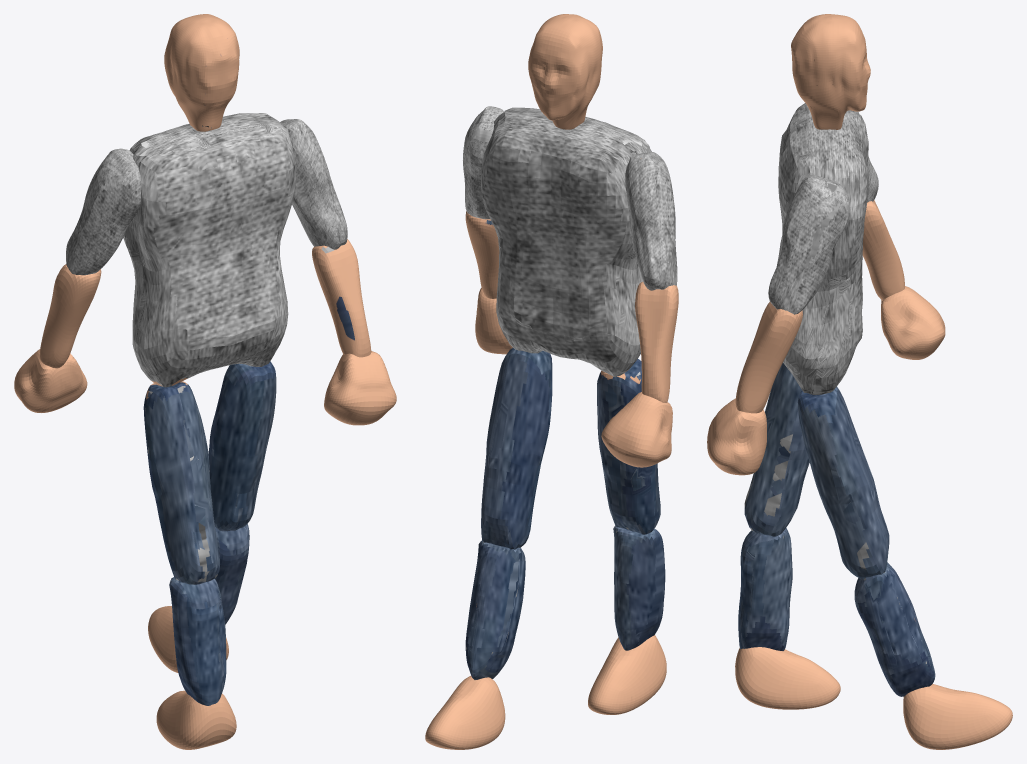
Rendered from mainCharacter.obj.
3 renders of one model, left to right at view 1: azimuth 30°, elevation 25°; view 2: azimuth 150°, elevation 25°; view 3: azimuth 270°, elevation 25°, orthographic.
Visible parts, largest first — view 1: Cube.007, Cube.001, Cube.001_Cube.017, Cube.016, Cube.006_Cube.021, Cube.002_Cube.018, Cube.010, Cube.015, Cube.009_Cube.023, Cube.005_Cube.020, Cube.008_Cube.022, Cube.011_Cube.024 (+2 smaller); view 2: Cube.007, Cube.001_Cube.017, Cube.016, Cube.004, Cube.006_Cube.021, Cube.001, Cube.002_Cube.018, Cube.005_Cube.020, Cube.003_Cube.019, Cube.011_Cube.024, Cube.008_Cube.022, Cube.010 (+2 smaller); view 3: Cube.007, Cube.001_Cube.017, Cube.016, Cube.010, Cube.001, Cube.004, Cube.002_Cube.018, Cube.003_Cube.019, Cube.005_Cube.020, Cube.015, Cube.011_Cube.024, Cube.009_Cube.023 (+1 smaller).
Part boxes in pixels (<box>): Cube.007: <box>123,113,295,387</box>; Cube.001: <box>143,381,219,584</box>; Cube.001_Cube.017: <box>208,361,276,531</box>; Cube.016: <box>164,14,239,131</box>; Cube.006_Cube.021: <box>66,148,140,275</box>; Cube.002_Cube.018: <box>169,577,226,705</box>; Cube.010: <box>280,119,347,249</box>; Cube.015: <box>312,239,371,357</box>; Cube.009_Cube.023: <box>324,351,396,425</box>; Cube.005_Cube.020: <box>156,690,236,749</box>; Cube.008_Cube.022: <box>39,264,101,368</box>; Cube.011_Cube.024: <box>14,349,87,412</box>; Cube.007: <box>481,107,651,377</box>; Cube.001_Cube.017: <box>481,348,552,549</box>; Cube.016: <box>528,14,602,129</box>; Cube.004: <box>465,540,525,679</box>; Cube.006_Cube.021: <box>625,152,677,290</box>; Cube.001: <box>597,359,660,534</box>; Cube.002_Cube.018: <box>613,526,665,650</box>; Cube.005_Cube.020: <box>588,635,666,714</box>; Cube.003_Cube.019: <box>425,676,505,749</box>; Cube.011_Cube.024: <box>601,392,672,467</box>; Cube.008_Cube.022: <box>635,282,678,402</box>; Cube.010: <box>463,106,503,219</box>; Cube.007: <box>776,103,868,395</box>; Cube.001_Cube.017: <box>797,386,889,578</box>; Cube.016: <box>791,14,870,129</box>; Cube.010: <box>768,175,849,314</box>; Cube.001: <box>744,363,809,536</box>; Cube.004: <box>854,562,935,696</box>; Cube.002_Cube.018: <box>738,528,792,650</box>; Cube.003_Cube.019: <box>903,684,1012,749</box>; Cube.005_Cube.020: <box>735,647,840,709</box>; Cube.015: <box>735,302,802,413</box>; Cube.011_Cube.024: <box>881,286,945,359</box>; Cube.009_Cube.023: <box>707,398,766,475</box>.
Bounding box in the file's own units: 0.9176 × 2.18 × 0.8625.
Materials: 3 (3 with a texture image).
